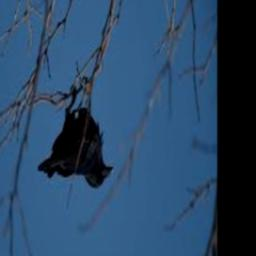Crow: (39, 86, 115, 190)
